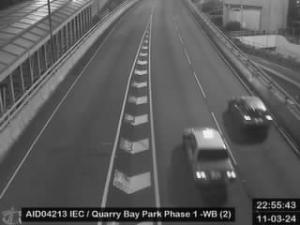vehicle: (181, 127, 239, 187), (225, 96, 272, 142)
